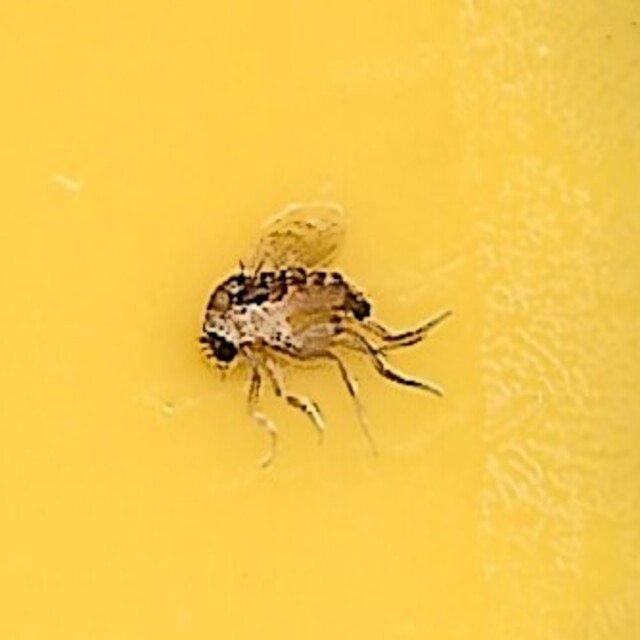Nematocera: (192, 221, 448, 419)
